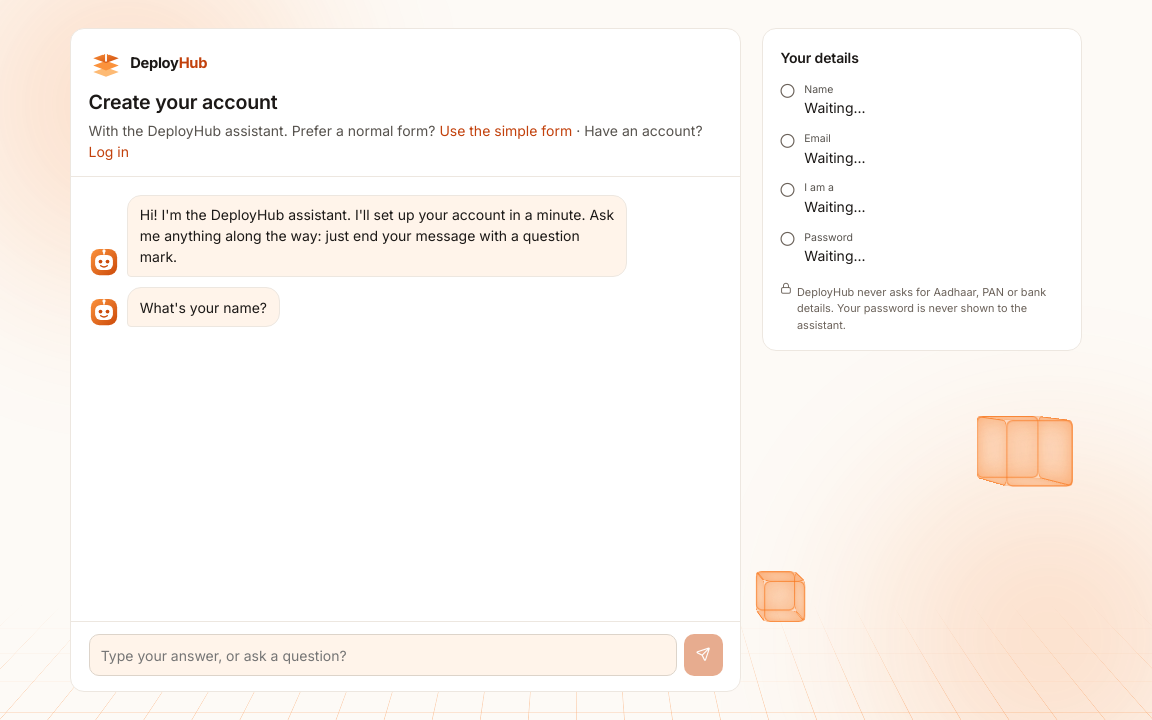
Test: OnboardingComponent › sends a message ending in a question mark to the assistant and then asks the step again
Type "Why do you need my email?" into the field with id "ob-answer".
click(383, 655); type("Why do you need my email?")  # box 88,634 -> 677,676
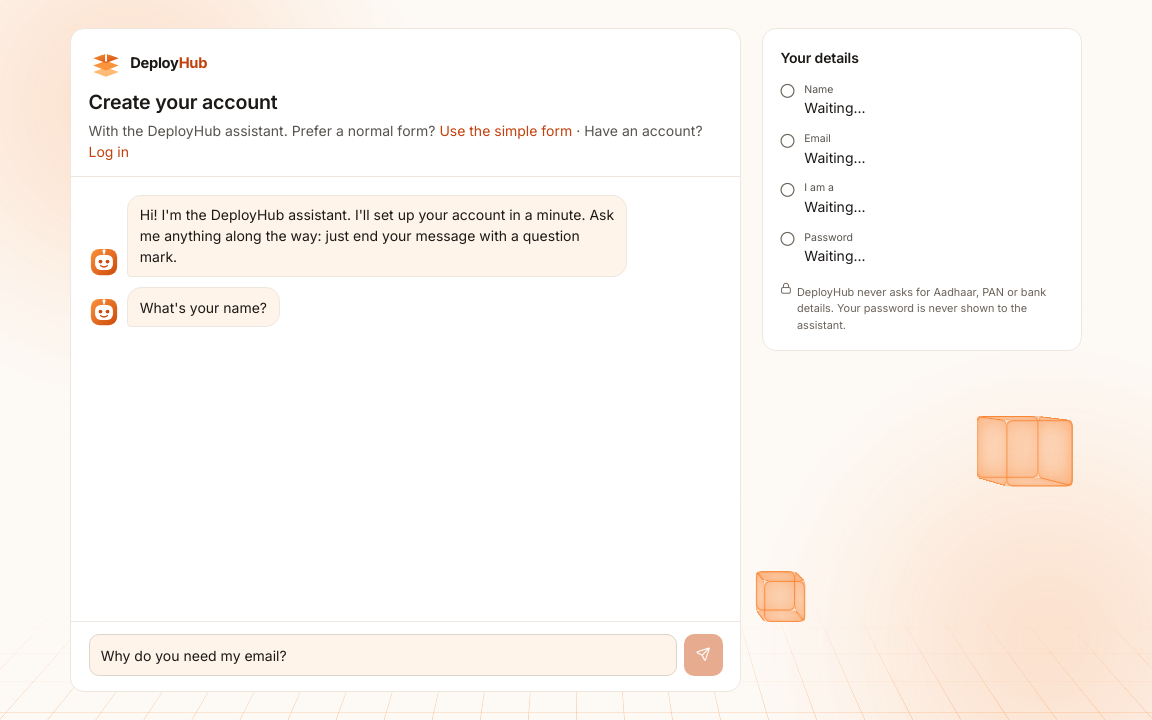
Submit the form, box 88,634 -> 722,676
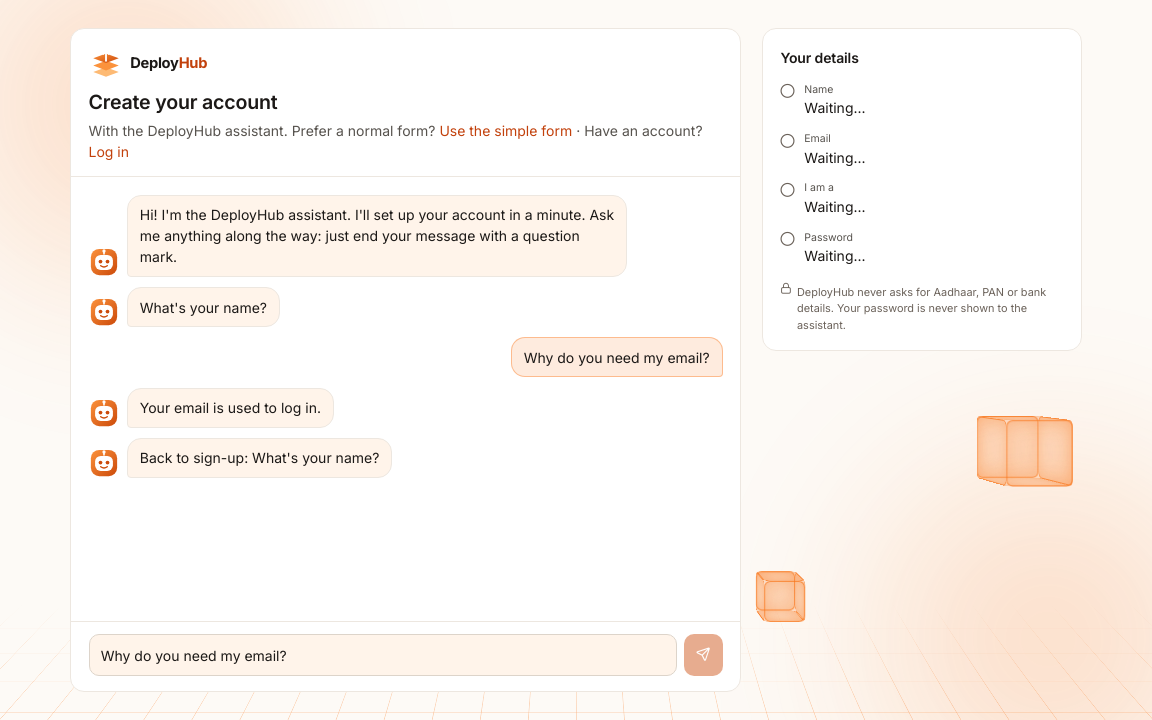
Check: the text "Your email is used to log in." is shown, box 140,397 -> 321,418
Check: the text "Back to sign-up: What's your name?" is shown, box 140,447 -> 379,468
